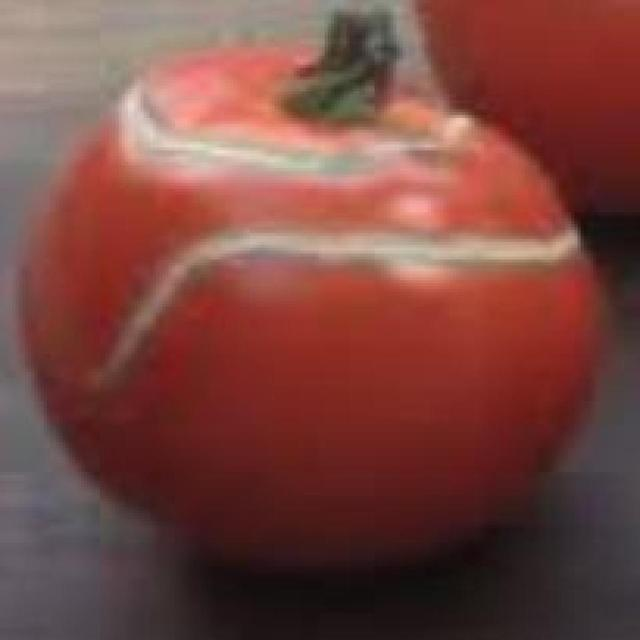Cracking Fruit: (190, 79, 350, 207)
